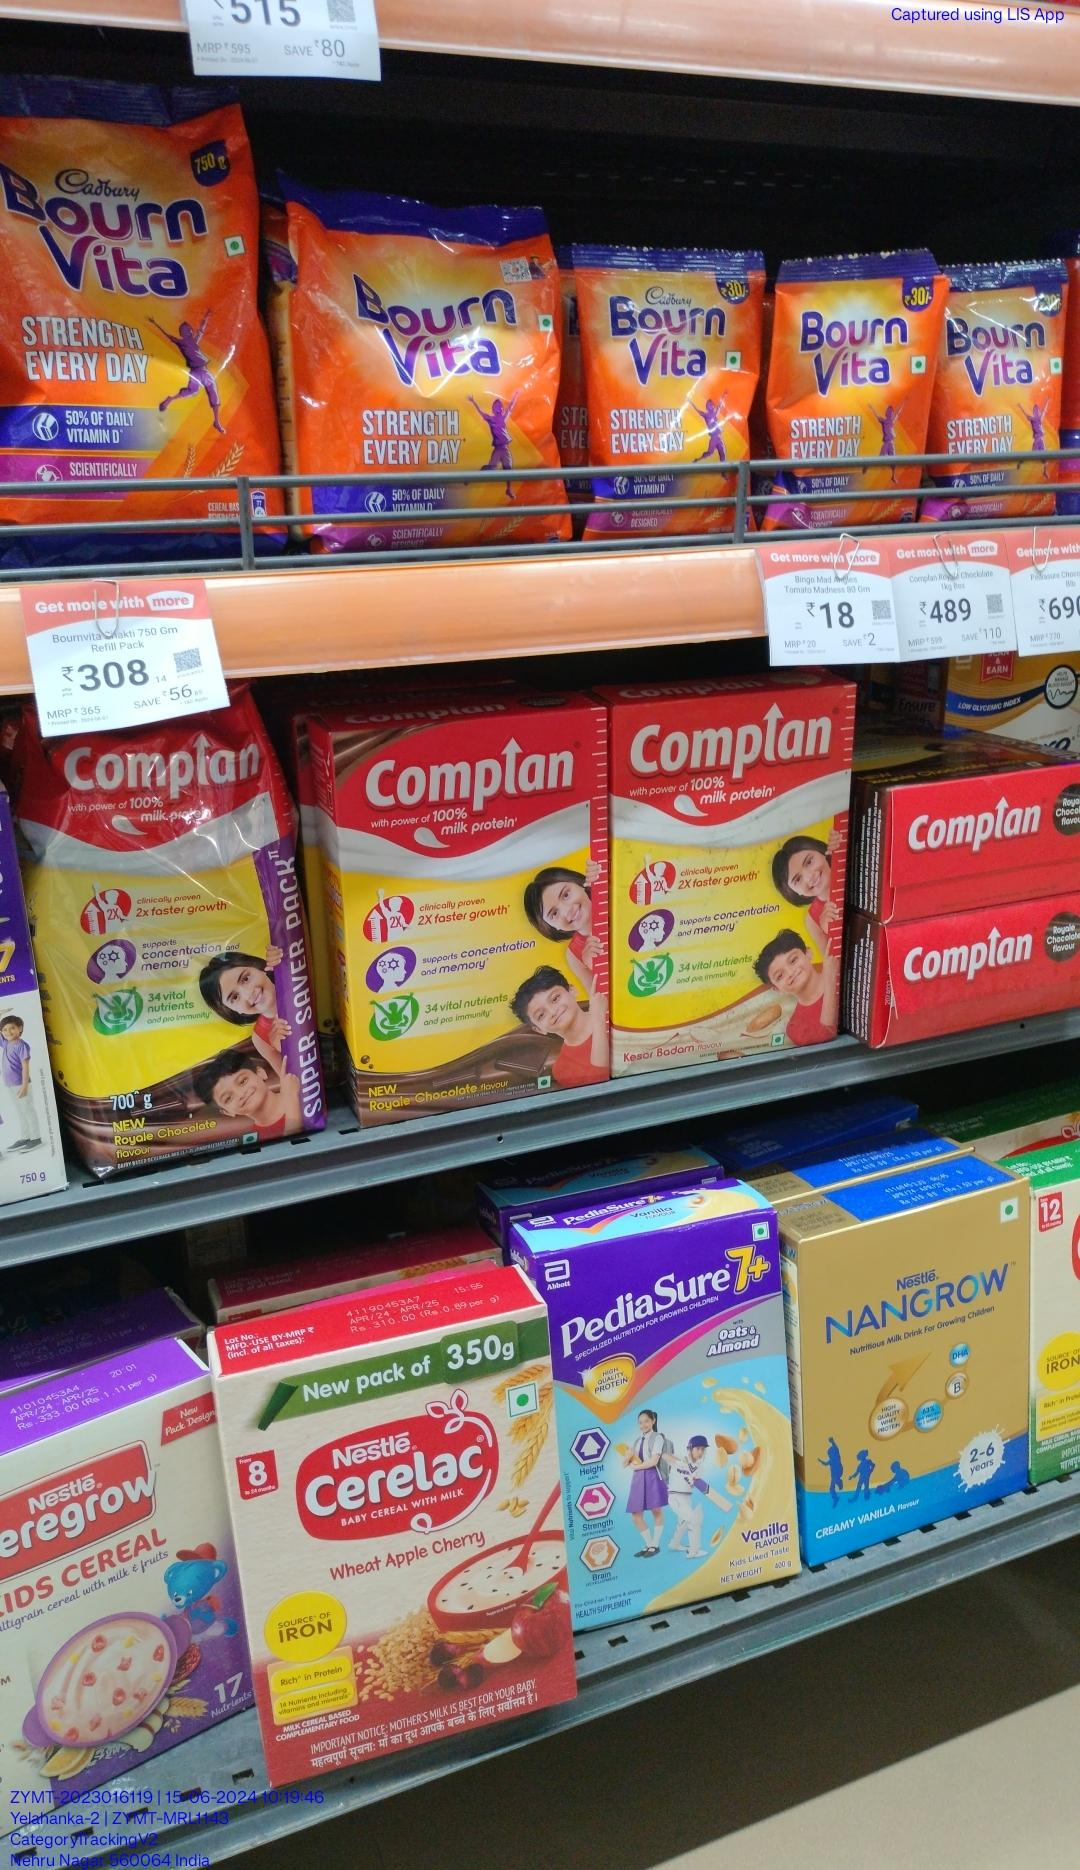BOURN_VITA_500_G_POUCH: (292, 199, 559, 549)
BOURN_VITA_750_G_POUCH: (0, 114, 267, 554)
BOURN_VITA_75_G_POUCH: (576, 235, 753, 528), (771, 267, 923, 528), (958, 257, 1072, 514)
COMPLAN_CHOCOLATE_500_GMS_PACK: (343, 718, 603, 1091)
COMPLAN_KESAR_BADAM_500_GMS_PACK: (613, 704, 843, 1047)
COMPLAN_RC_POUCH_700_GMS_12: (57, 724, 323, 1155)
